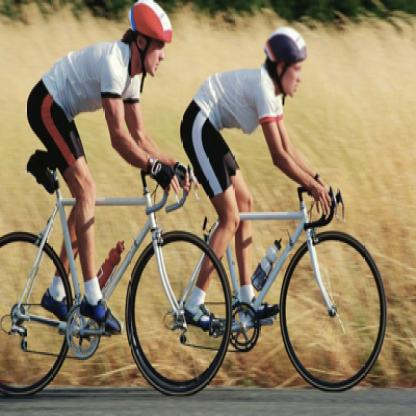Helmet: (122, 1, 175, 79), (260, 22, 308, 102)
